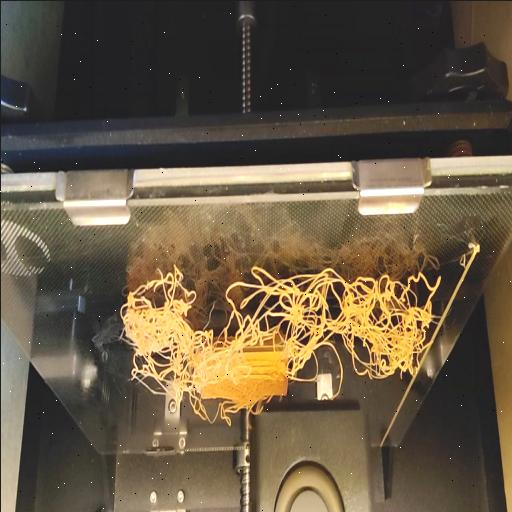spaghetti: (118, 264, 438, 408)
